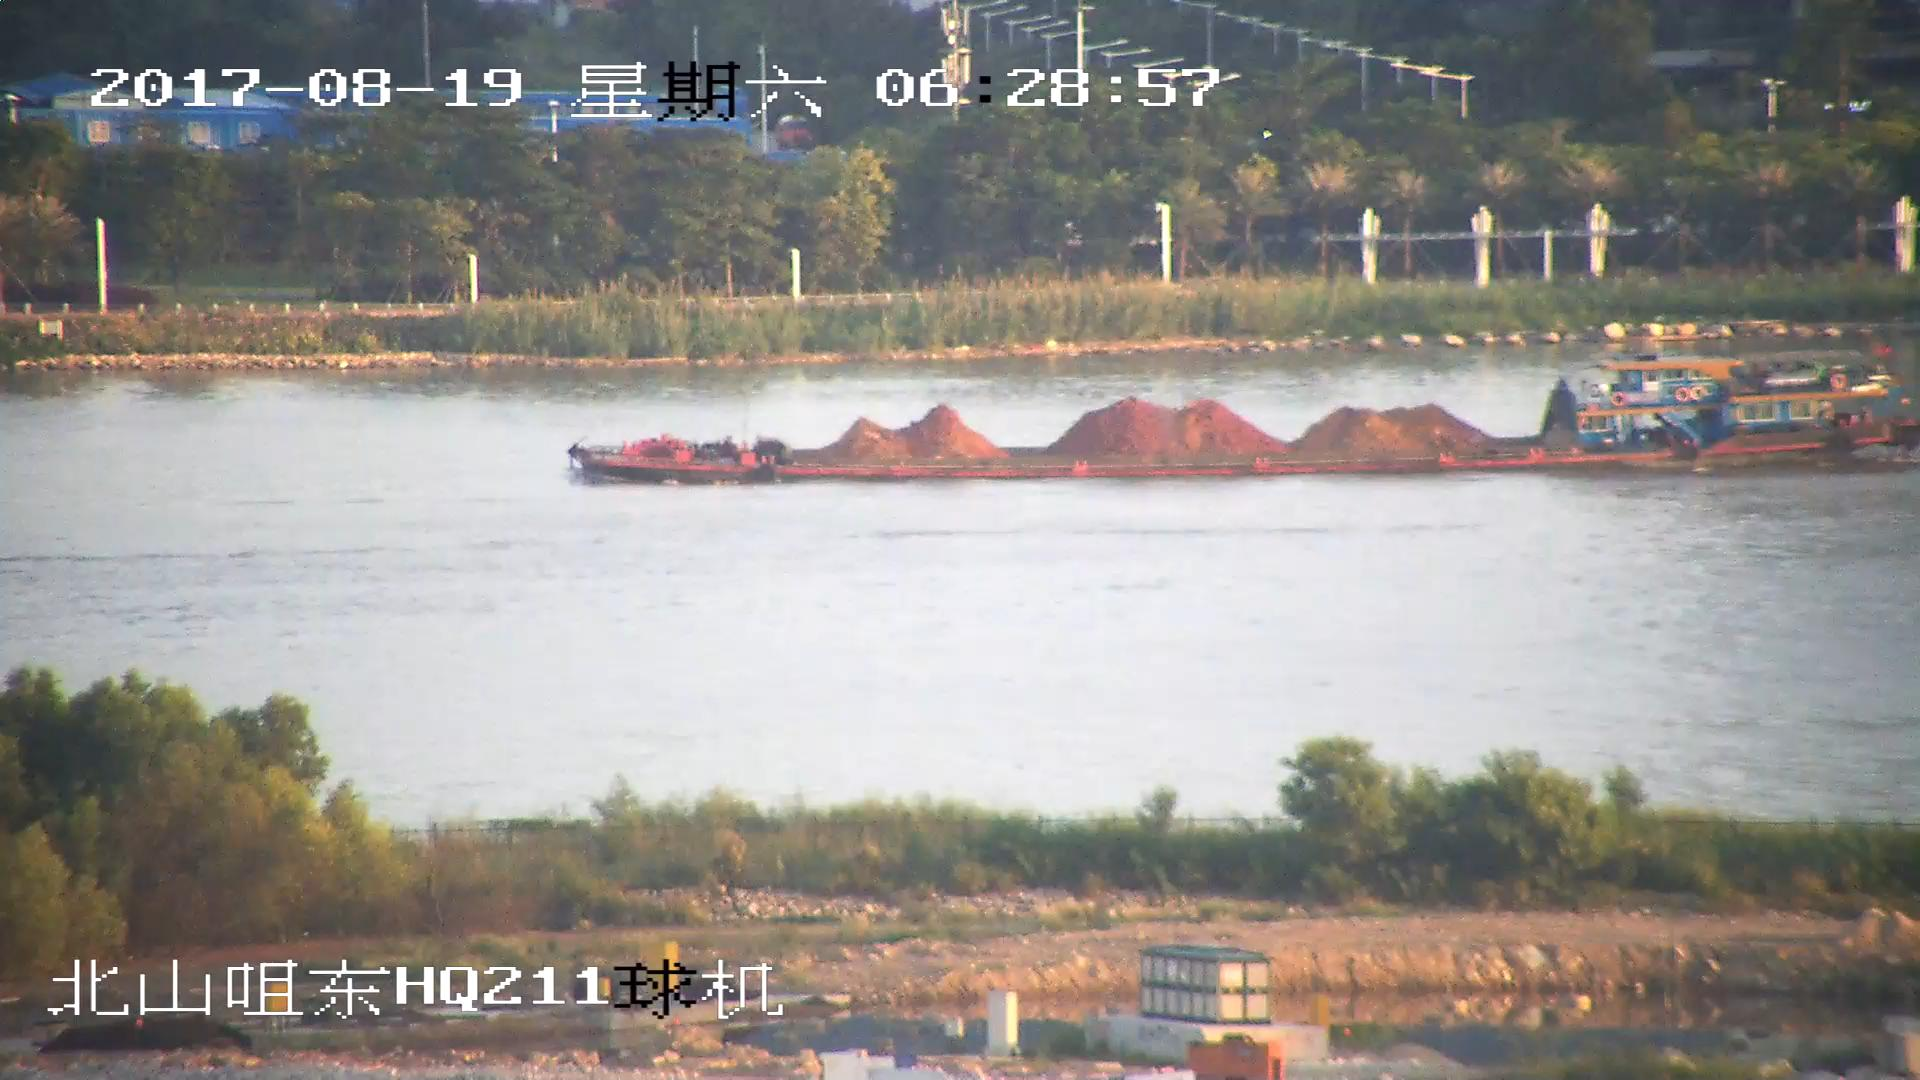ore carrier: (566, 349, 1920, 483)
